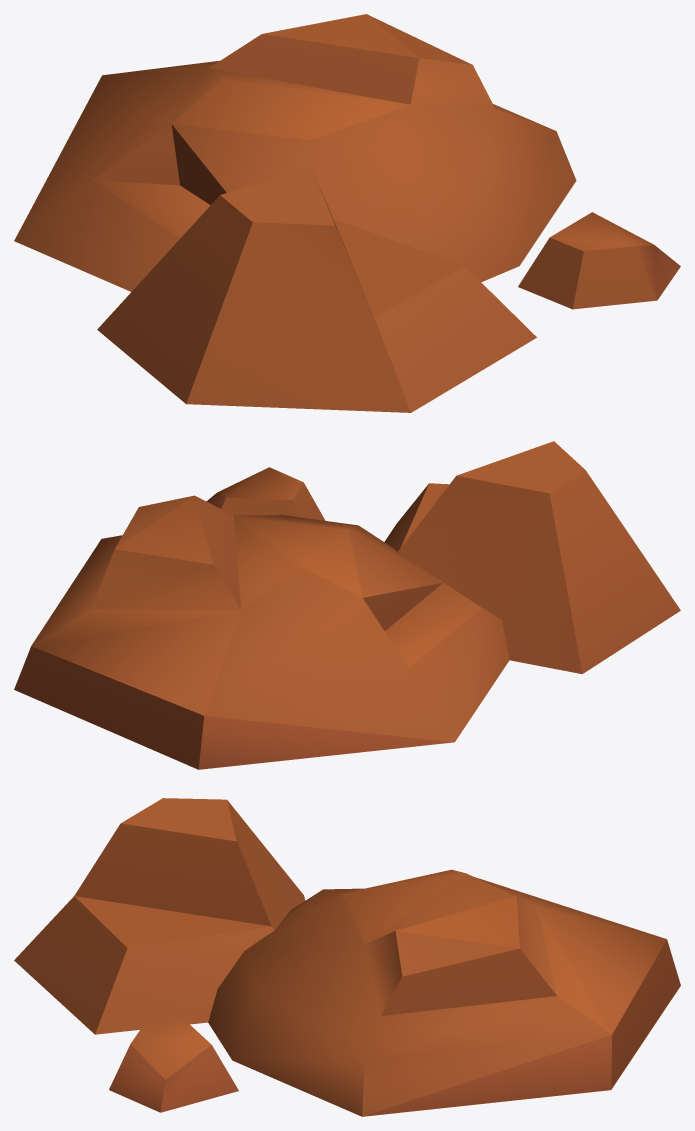
Rendered from space-rocks-a.glb.
The picture shows the model from 3 angles, top to bottom: view 1: azimuth 30°, elevation 25°; view 2: azimuth 150°, elevation 25°; view 3: azimuth 270°, elevation 25°; orthographic projection. The views are drawn at different scales.
Visible parts, largest first — view 1: rocks_A; view 2: rocks_A; view 3: rocks_A.
Part boxes in pixels (box(x1,y1,x2,y2)): rocks_A: box(14, 14, 680, 412); rocks_A: box(14, 441, 680, 769); rocks_A: box(14, 798, 680, 1116).
Size of the model in its own units: 1.31 by 0.354 by 1.64.
